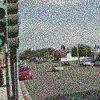traffic lights: (6, 3, 20, 50)
